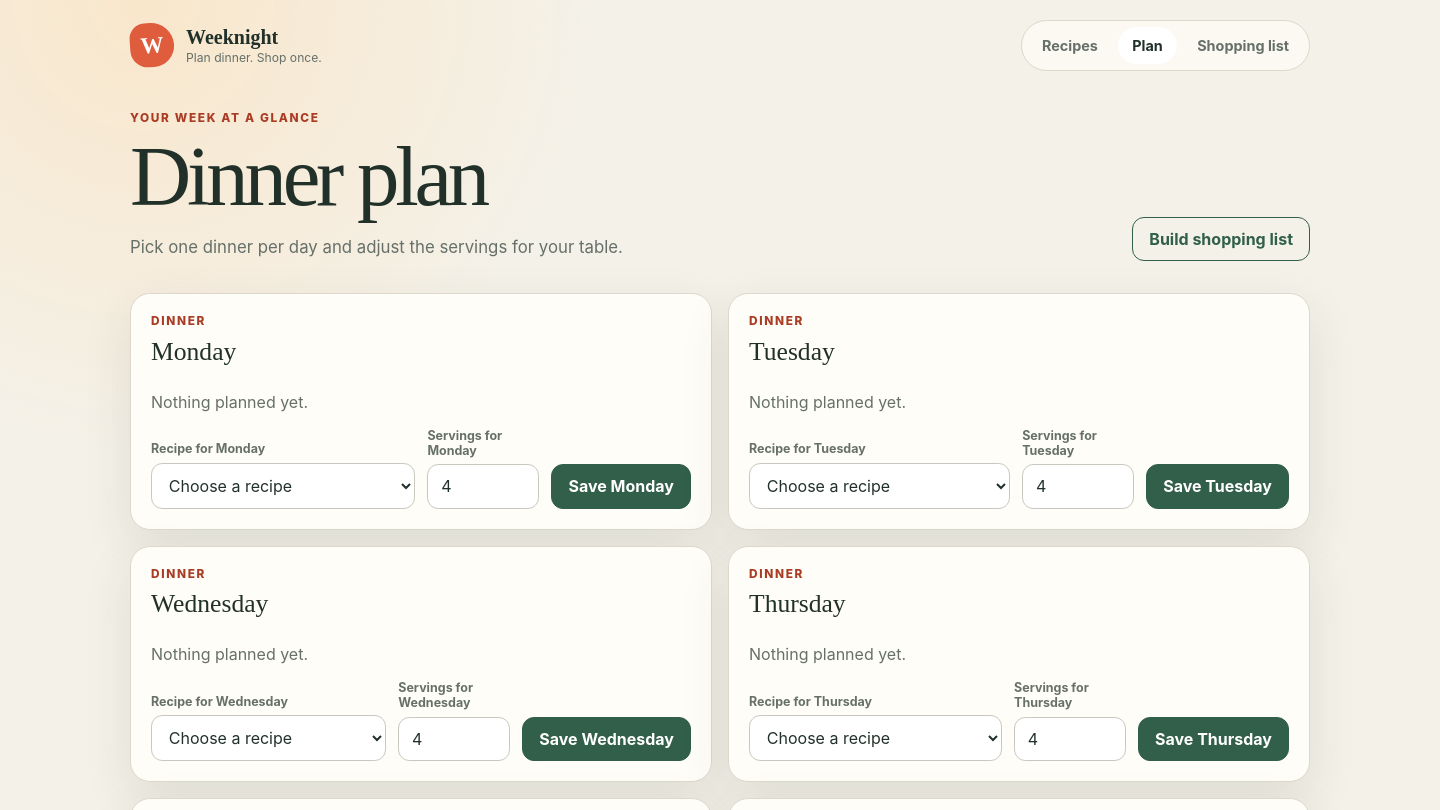
Test: Weeknight › schedules a recipe and serving count for a day
Step 1. Select "Tomato basil pasta" in the dropdown labelled "Recipe for Monday" → point(283, 486), box [151,462,416,509]
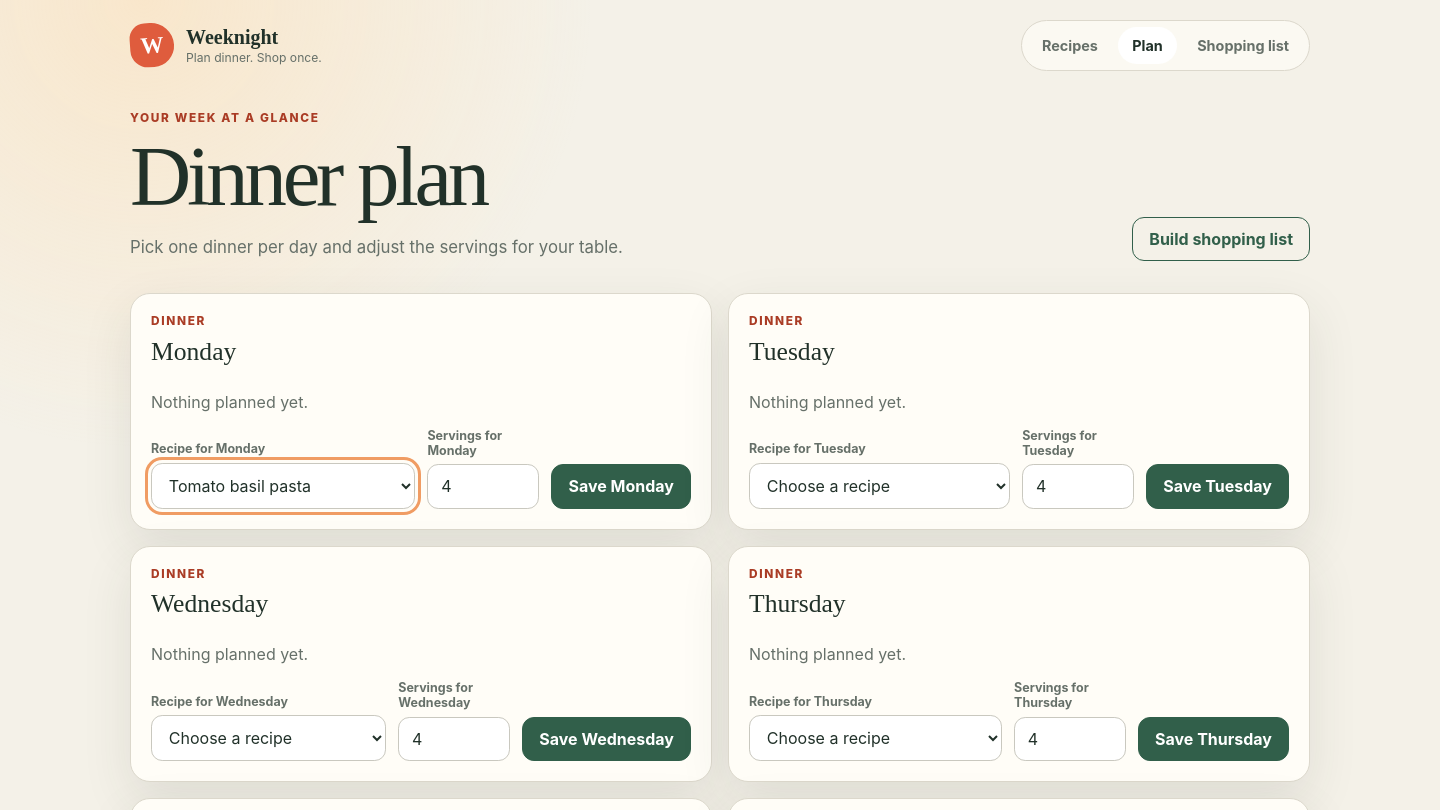
Step 2. Replace the text in the number field labelled "Servings for Monday" with "2" → point(484, 486), box [428,464,540,509]
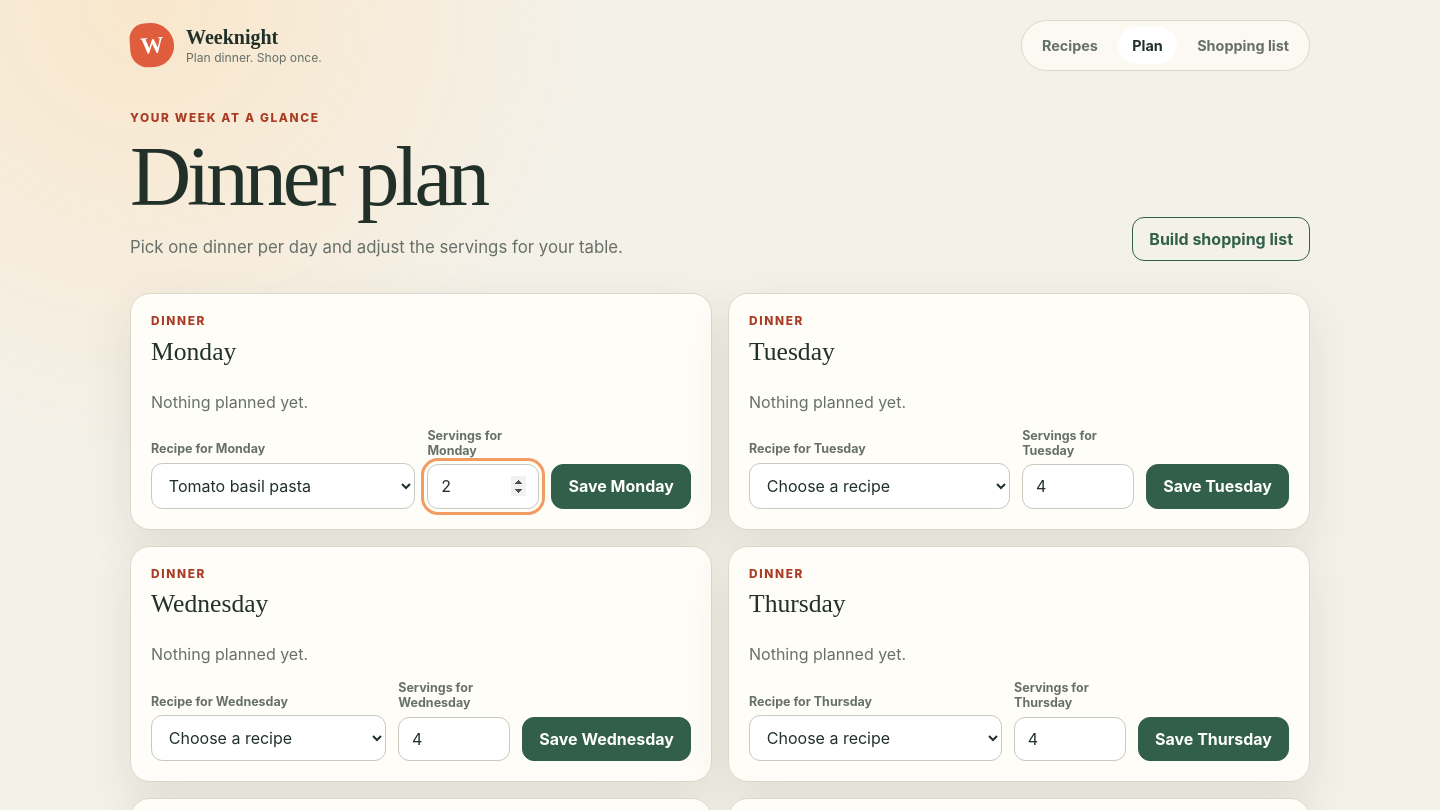
Step 3. Click the button "Save Monday" → point(621, 486), box [552,464,691,509]
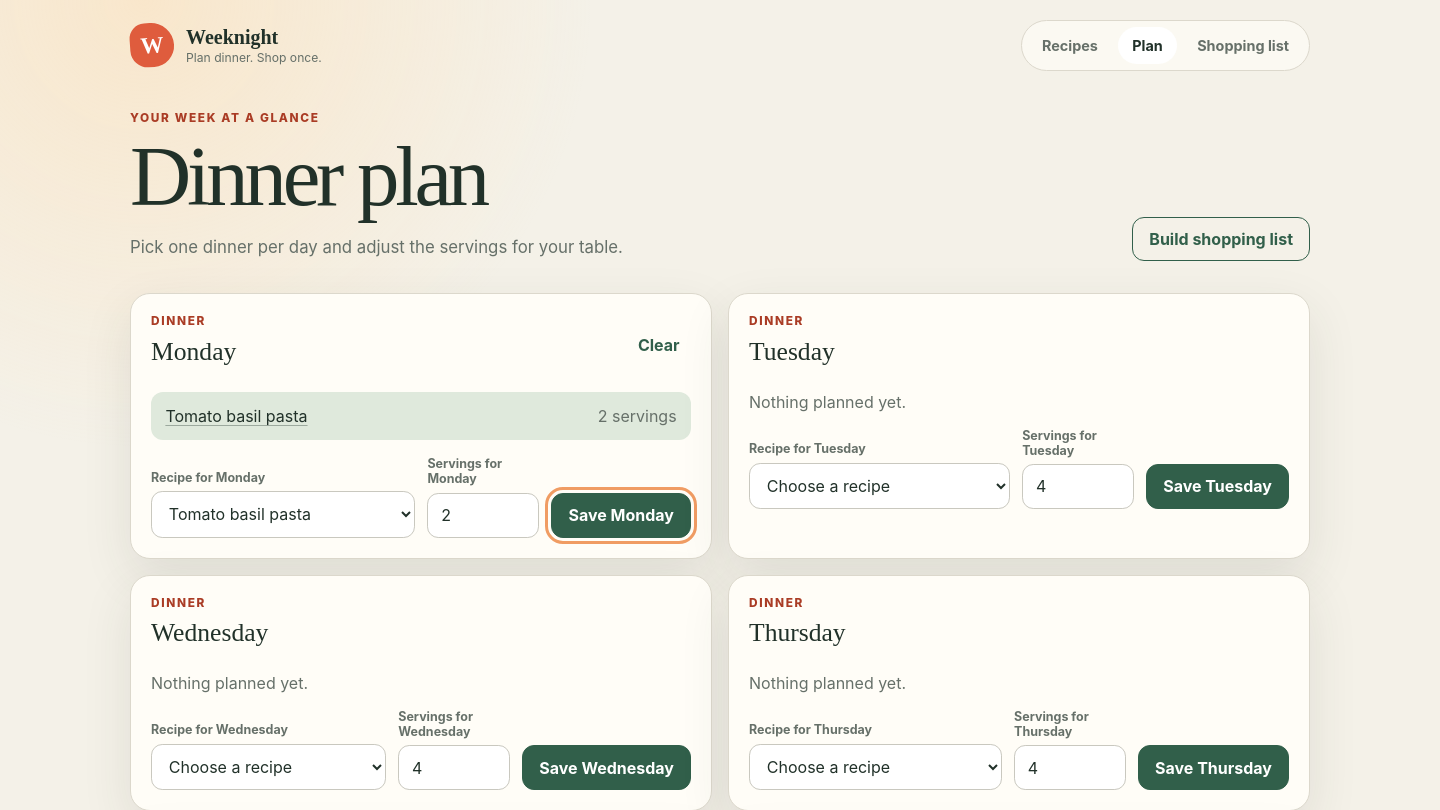
Result: the link "Tomato basil pasta" is shown at [165,406,308,426]
Result: the text "2 servings" is shown at [598,406,677,426]
Result: the button with aria-label "Clear Monday" is shown at [626,327,691,363]
